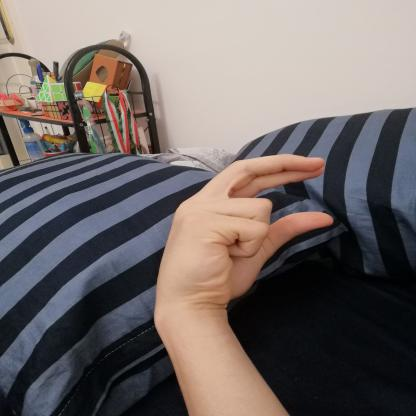DHELL: (142, 147, 344, 313)
